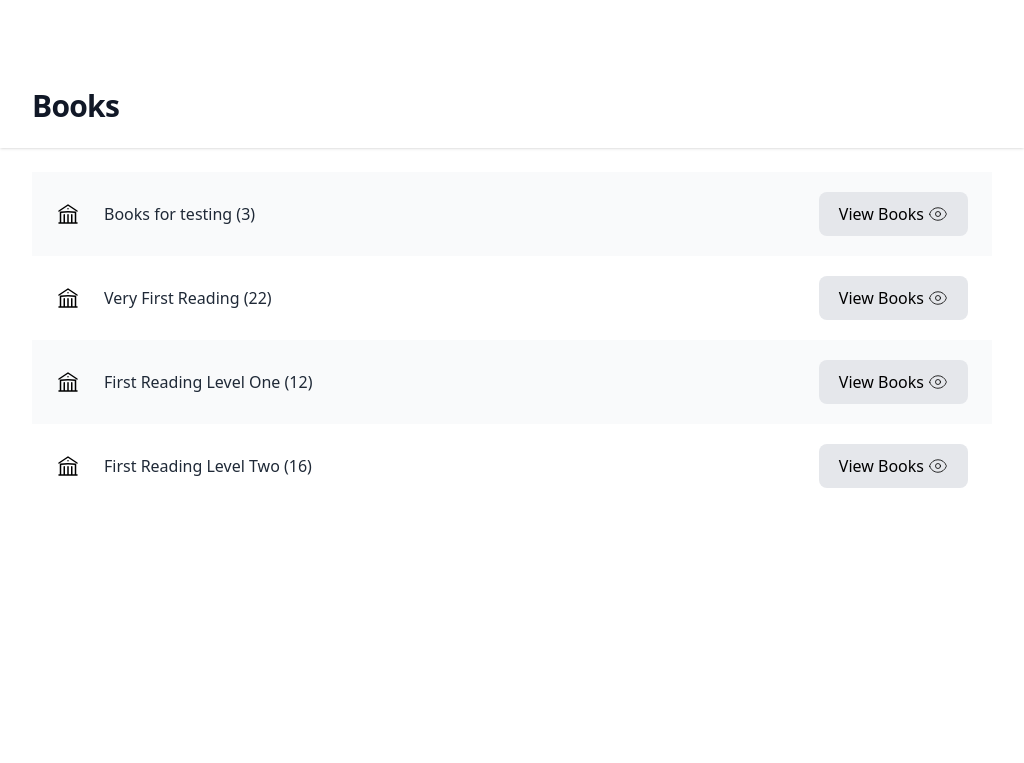
Books View › will search for a book title
This screenshot has width=1024, height=763.
Click the button with test id "collection-button" at (893, 298), box x1=819 y1=276 x2=968 y2=320
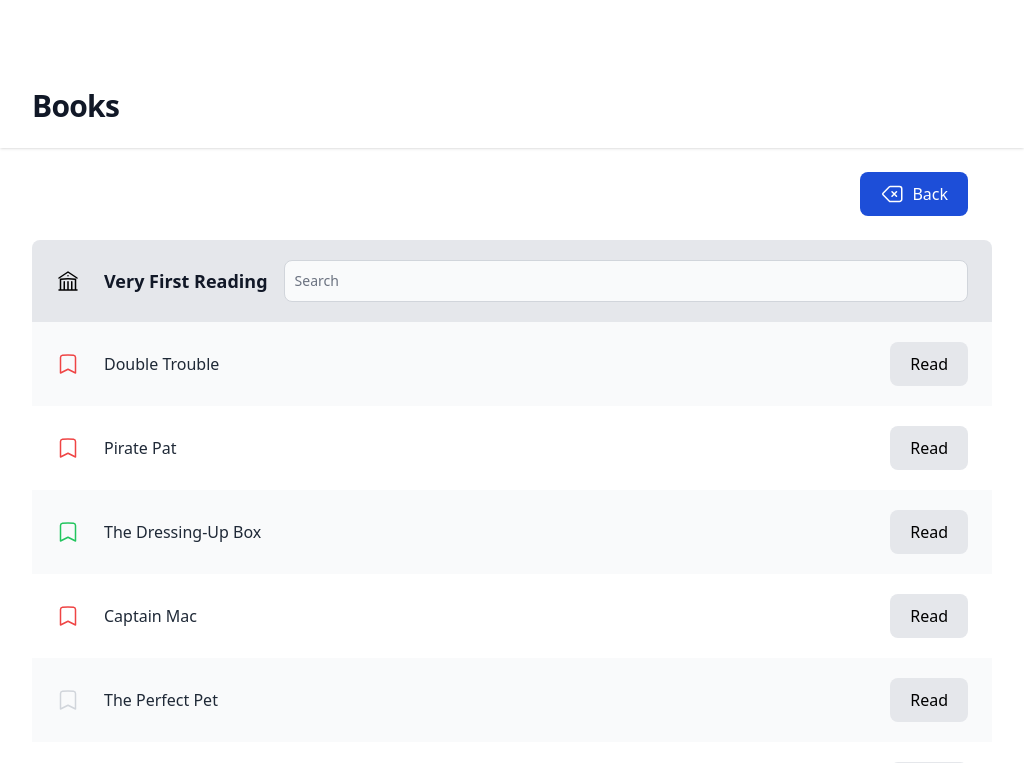
Type "Pirate Pat" into the field with test id "search" at (626, 281), box x1=284 y1=260 x2=968 y2=302
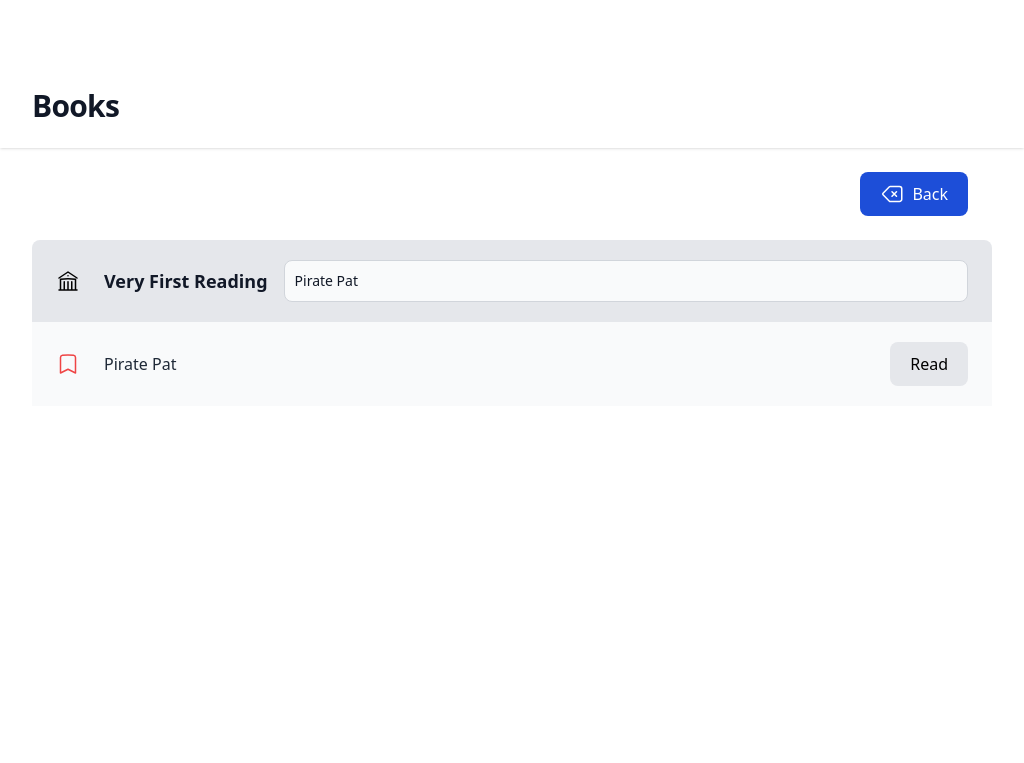
Now the text "Pirate Pat" is shown once, box x1=104 y1=352 x2=176 y2=376
